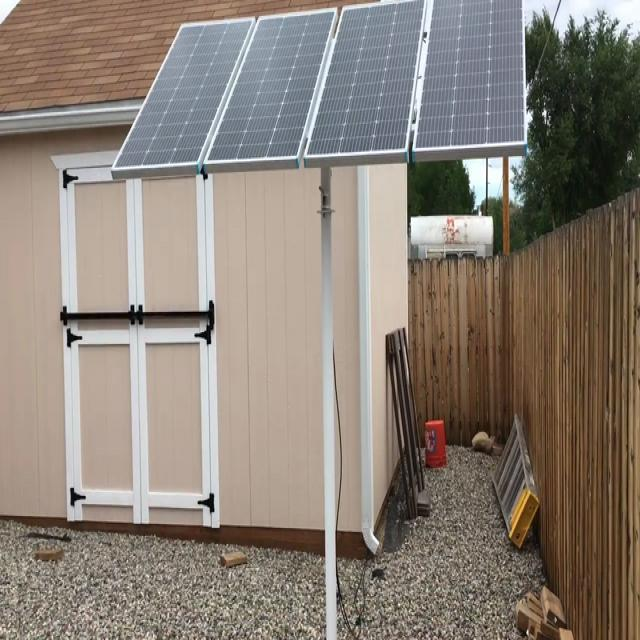Normal Solar Panel: (114, 19, 255, 177), (205, 9, 337, 171), (306, 3, 425, 167), (414, 0, 527, 161)
